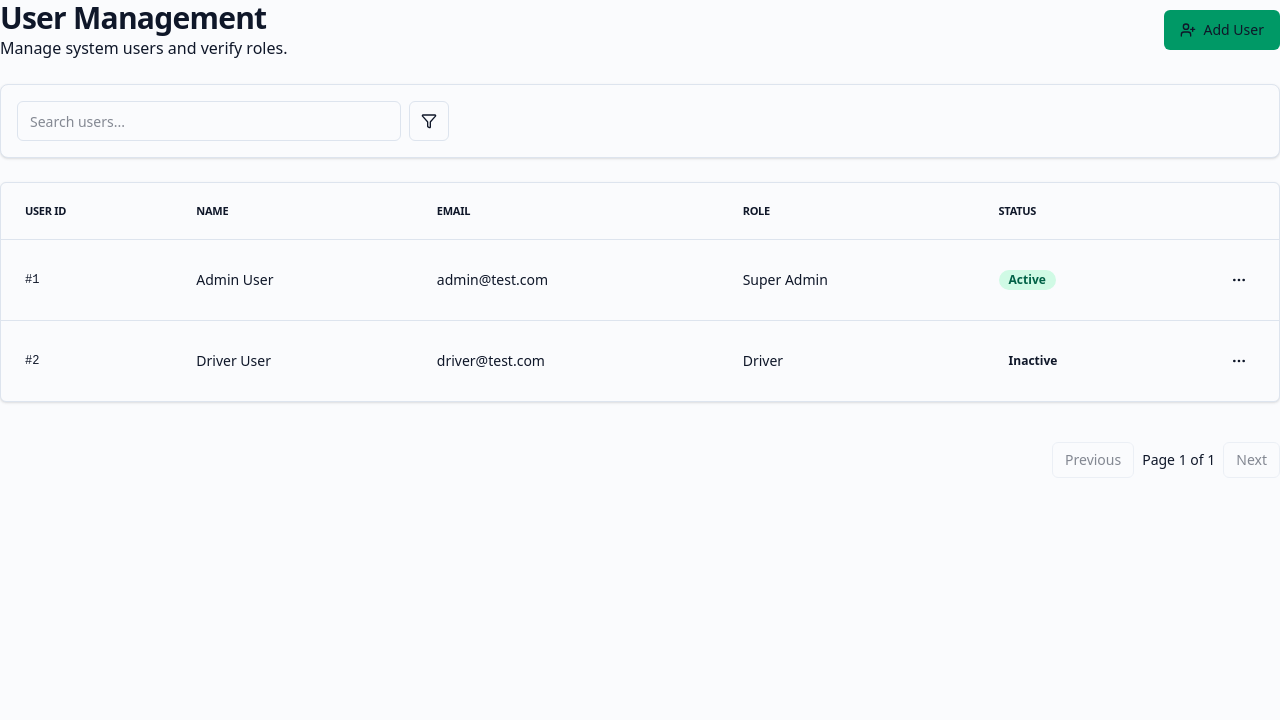
Test case: UsersPage Integration › opens Add User dialog when clicking Add User button
This screenshot has width=1280, height=720.
Click the button "Add User": (1222, 30) [1164,10,1279,50]
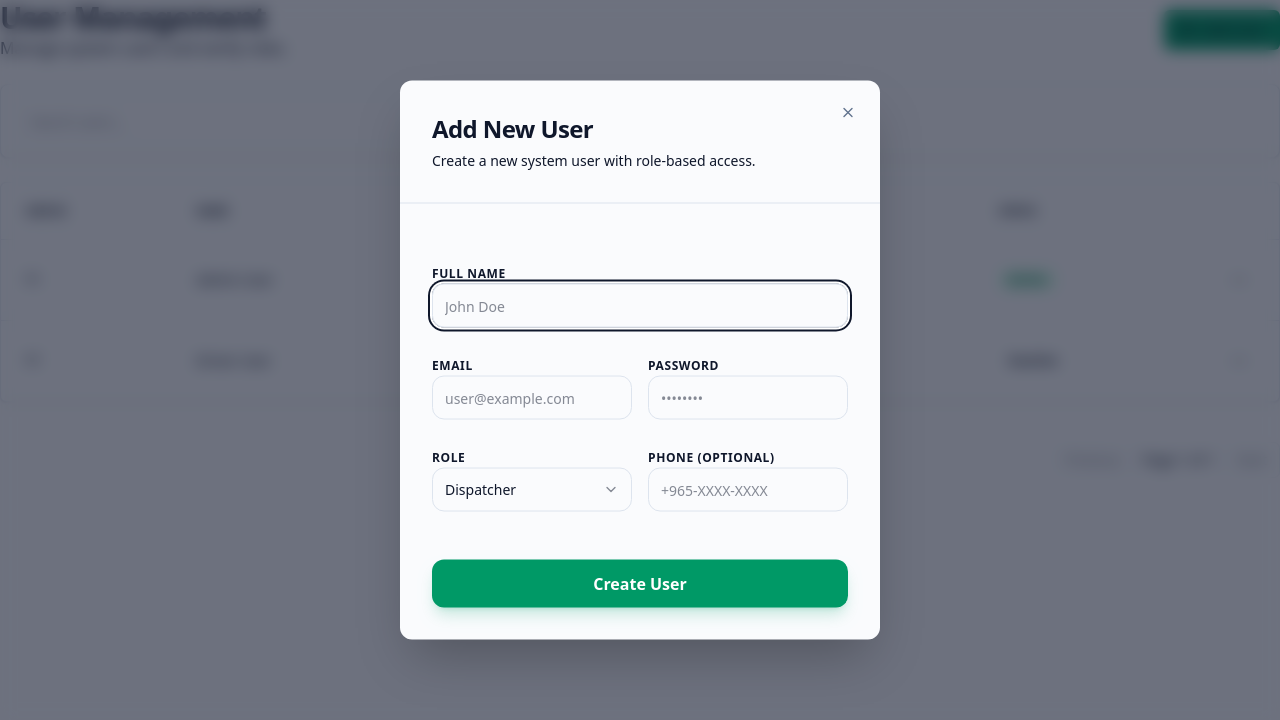
Now the dialog is shown, box [400,80,880,640]
Now the heading "Add New User" is shown, box [432,112,593,144]
